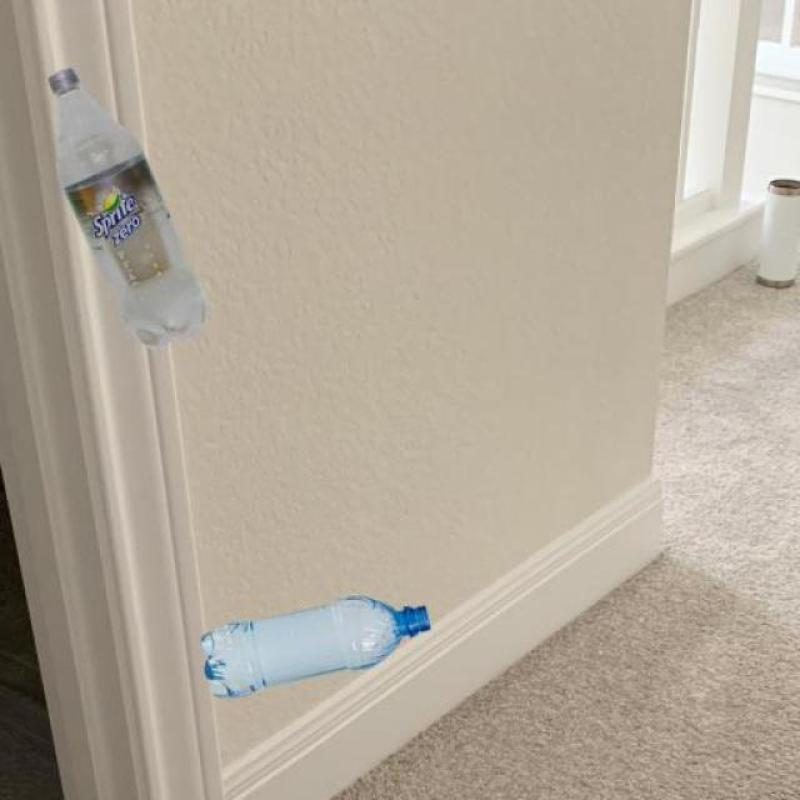botella: (43, 67, 207, 346), (197, 593, 434, 701)
